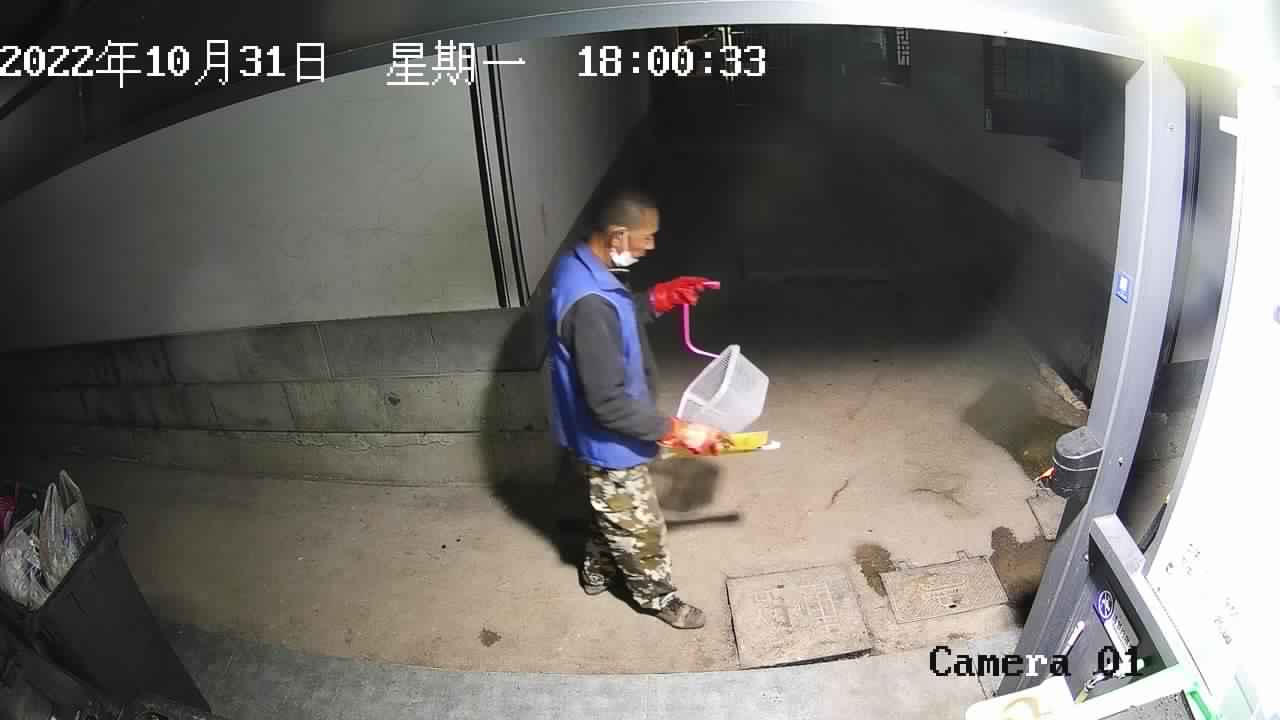suliaozhipin: (678, 342, 770, 439)
worker: (543, 185, 711, 631)
